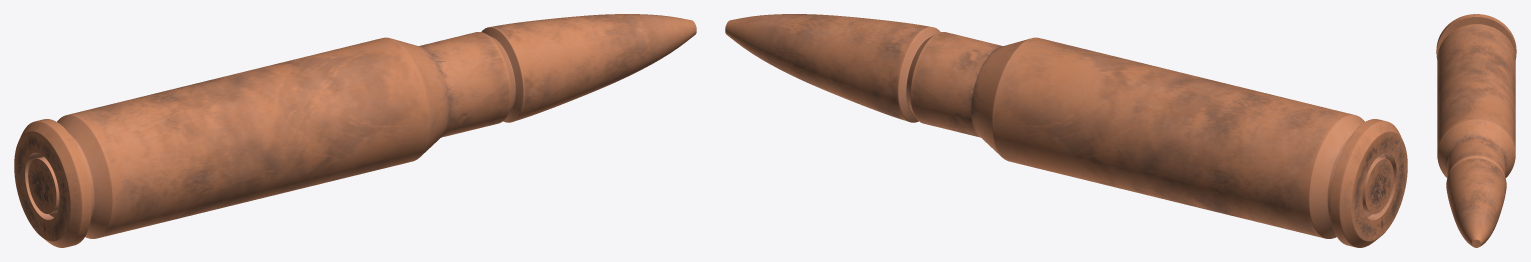
File: RifleBullet.fbx
The picture shows the model from 3 angles, left to right: view 1: azimuth 30°, elevation 25°; view 2: azimuth 150°, elevation 25°; view 3: azimuth 270°, elevation 25°; orthographic projection. The views are drawn at different scales.
Parts seen in each view (by area): view 1: Bullet_lambert1_0; view 2: Bullet_lambert1_0; view 3: Bullet_lambert1_0.
Boxes of the visible parts, x1,y1,x2,y2 form: Bullet_lambert1_0: (14, 14, 696, 247); Bullet_lambert1_0: (725, 14, 1407, 247); Bullet_lambert1_0: (1436, 14, 1516, 247).
Size of the model in its own units: 202 by 202 by 1167.
